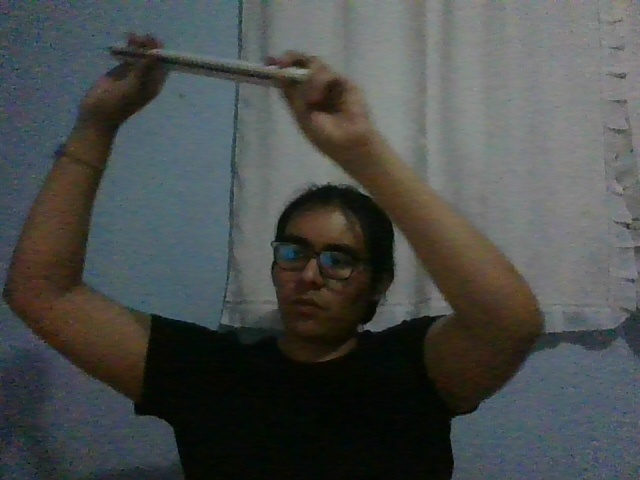regla: (108, 44, 311, 88)
